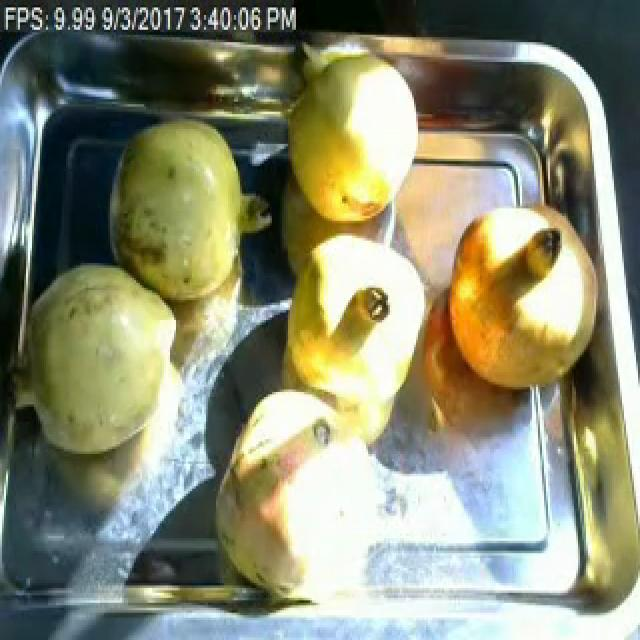fruit: (202, 370, 408, 622), (6, 250, 188, 467), (102, 107, 280, 315), (440, 196, 604, 404), (280, 40, 422, 238), (280, 226, 434, 377)
